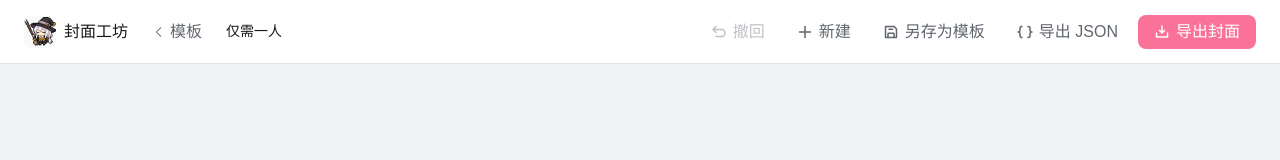
Test: 导出失败后按钮恢复并可再点
What coordinates should you click on to do the following:
click the button "导出封面"
I would click on:
 (1197, 32)
Its box is [1138,14,1256,48].
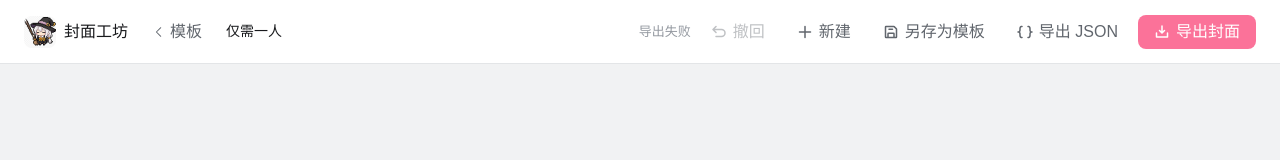
Now the text "导出失败" is shown, box [639,22,691,41]
